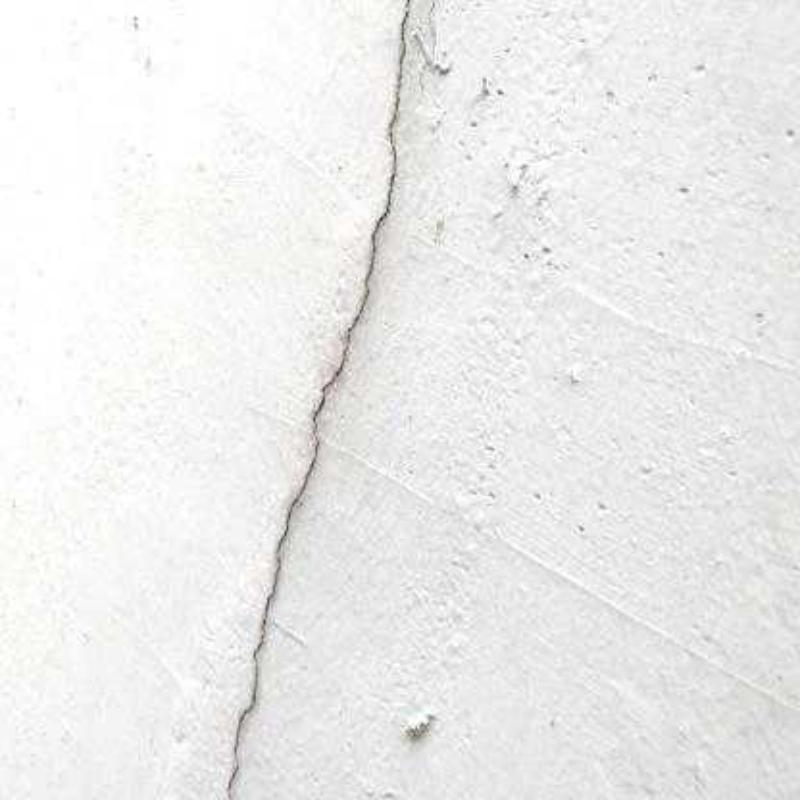pothole: (226, 0, 411, 800), (418, 0, 438, 103)
